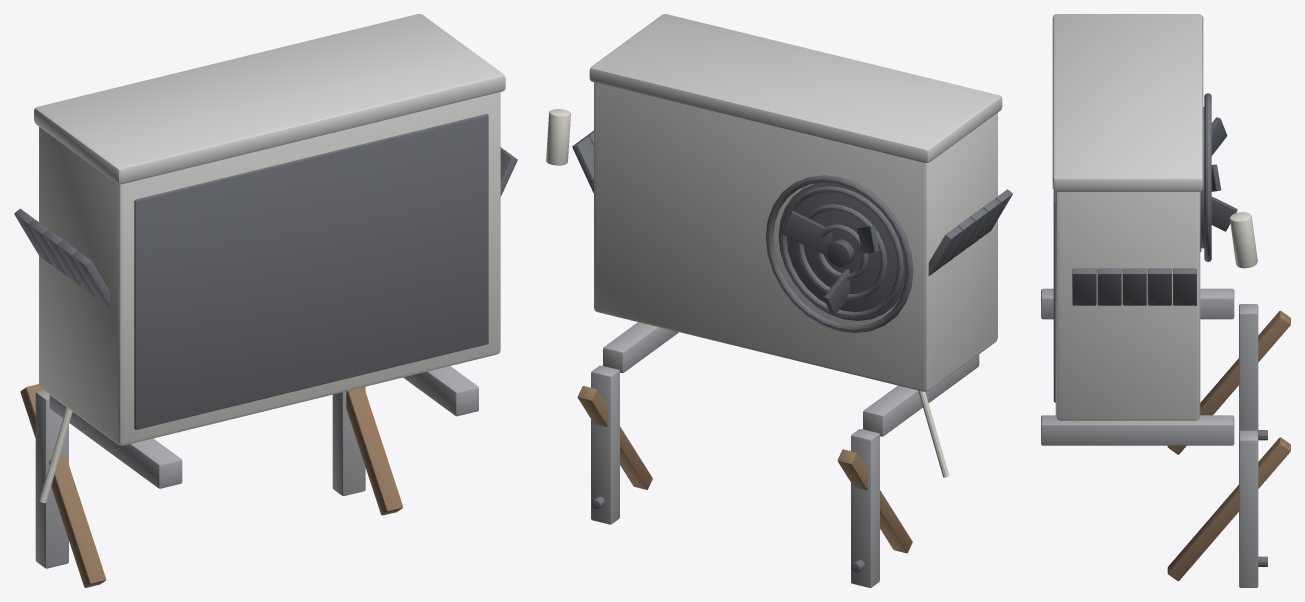
Rendered from ac_unit_single.glb.
The picture shows the model from 3 angles, left to right: view 1: azimuth 30°, elevation 25°; view 2: azimuth 150°, elevation 25°; view 3: azimuth 270°, elevation 25°; orthographic projection. The views are drawn at different scales.
Visible parts, largest first — view 1: AC_Unit_Single; view 2: AC_Unit_Single; view 3: AC_Unit_Single.
Part boxes in pixels (x1=…): AC_Unit_Single: x1=14, y1=14, x2=517, y2=587; AC_Unit_Single: x1=546, y1=14, x2=1012, y2=587; AC_Unit_Single: x1=1041, y1=14, x2=1290, y2=587.
Bounding box in the file's own units: 0.9043 × 0.9715 × 0.5176.
